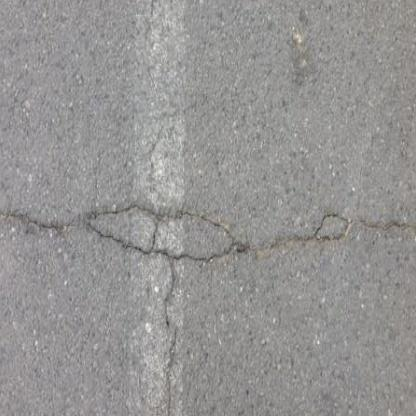Cracks: (0, 156, 416, 272), (129, 0, 212, 416)
